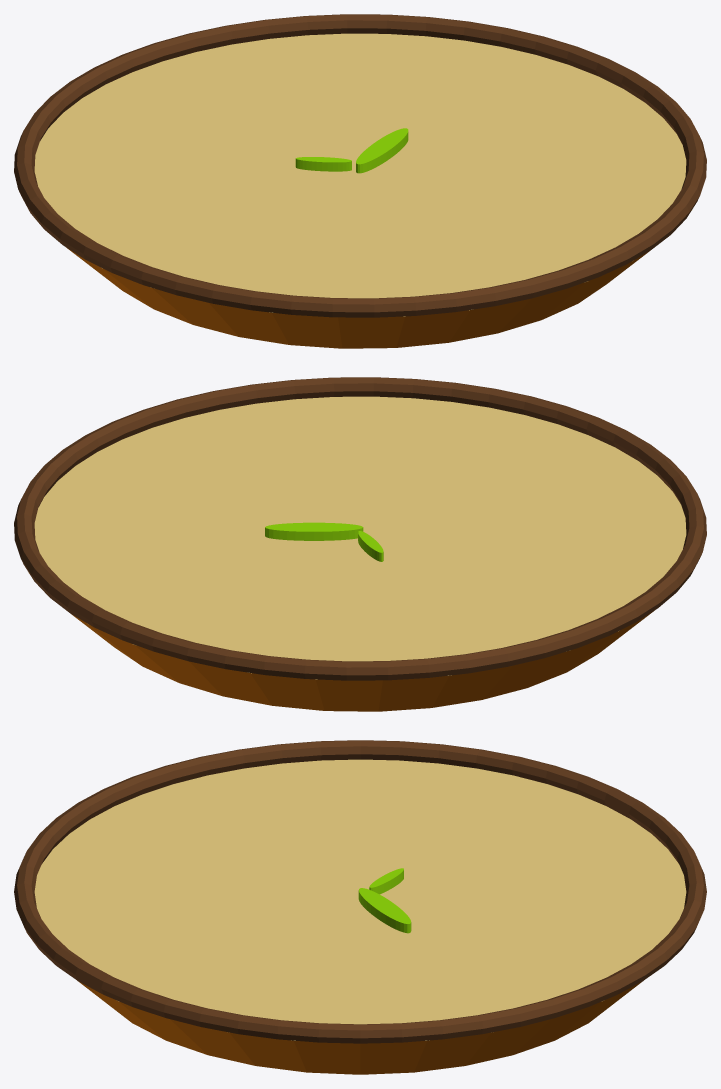
Rendered from LemonPoundCake.fbx.
3 views of the same model, one above another, from view 1: azimuth 30°, elevation 25°; view 2: azimuth 150°, elevation 25°; view 3: azimuth 270°, elevation 25° (orthographic).
Visible parts, largest first — view 1: Cylinder.004; view 2: Cylinder.004; view 3: Cylinder.004.
Boxes of the visible parts, bbox=[...] form: Cylinder.004: bbox=[14, 14, 706, 348]; Cylinder.004: bbox=[14, 377, 706, 711]; Cylinder.004: bbox=[14, 740, 706, 1074].
Size of the model in its own units: 2.02 by 0.2452 by 2.02.
